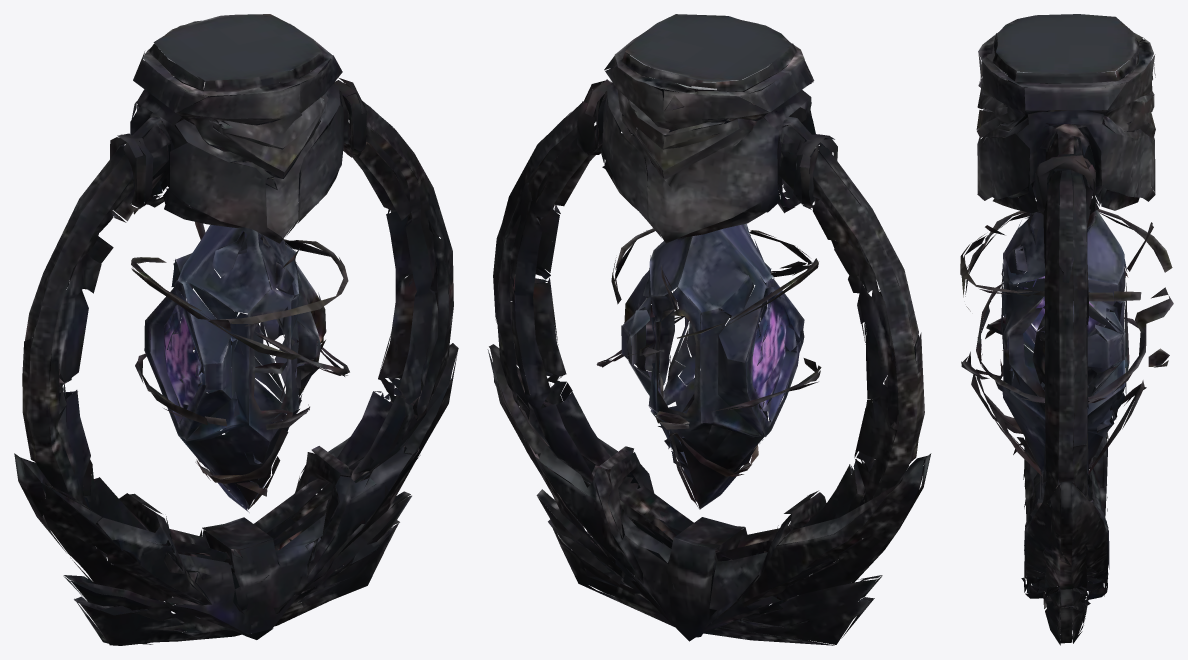
The model's file is relic-atlas-spindle-focal-lod0.glb.
The picture shows the model from 3 angles, left to right: view 1: azimuth 30°, elevation 25°; view 2: azimuth 150°, elevation 25°; view 3: azimuth 270°, elevation 25°; orthographic projection. The views are drawn at different scales.
Visible parts, largest first — view 1: xenovoya_runtime_asset; view 2: xenovoya_runtime_asset; view 3: xenovoya_runtime_asset.
Part boxes in pixels (box(x1,y1,x2,y2)): xenovoya_runtime_asset: box(14, 14, 458, 645); xenovoya_runtime_asset: box(487, 14, 931, 645); xenovoya_runtime_asset: box(960, 14, 1173, 645).
Size of the model in its own units: 0.4009 by 0.5111 by 0.1768.
Materials: 1 (1 with a texture image).
